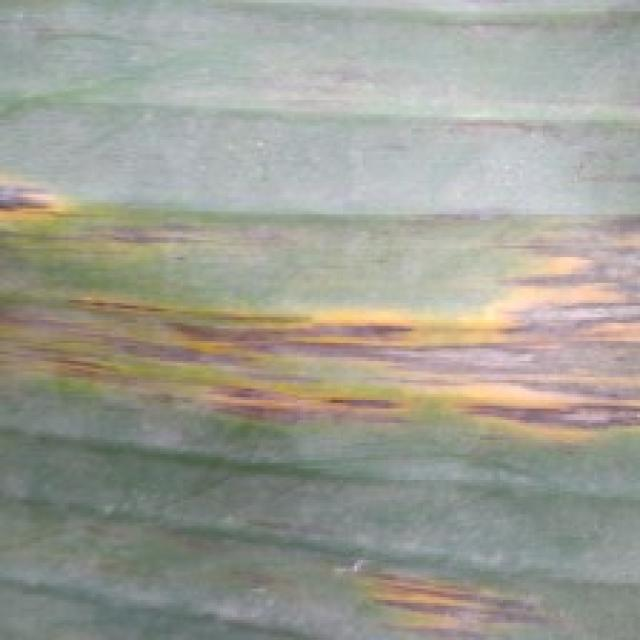Early_leaf_spot: (0, 130, 640, 459), (337, 543, 552, 640), (0, 142, 130, 254)
